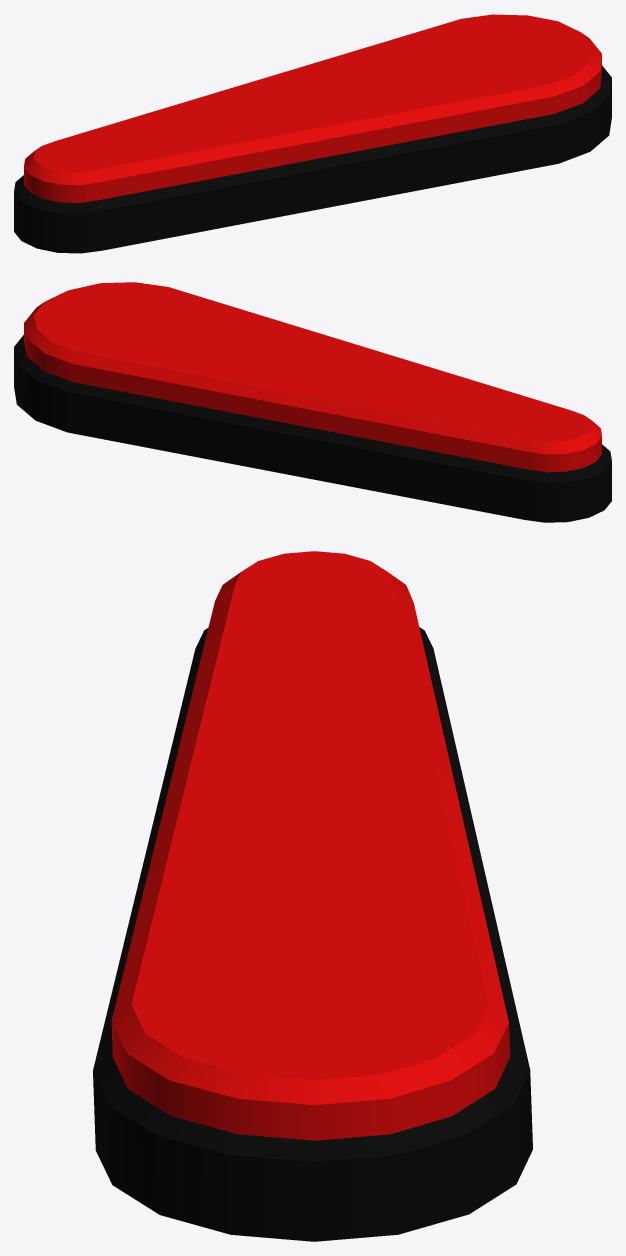
File: Flipper002.FBX
The picture shows the model from 3 angles, top to bottom: view 1: azimuth 30°, elevation 25°; view 2: azimuth 150°, elevation 25°; view 3: azimuth 270°, elevation 25°; orthographic projection. The views are drawn at different scales.
Visible parts, largest first — view 1: Cylinder001; view 2: Cylinder001; view 3: Cylinder001.
Boxes of the visible parts, x1,y1,x2,y2 form: Cylinder001: (14, 14, 611, 253); Cylinder001: (14, 282, 611, 522); Cylinder001: (93, 551, 532, 1241).
Bounding box in the file's own units: 0.6594 × 0.0795 × 0.2179.
